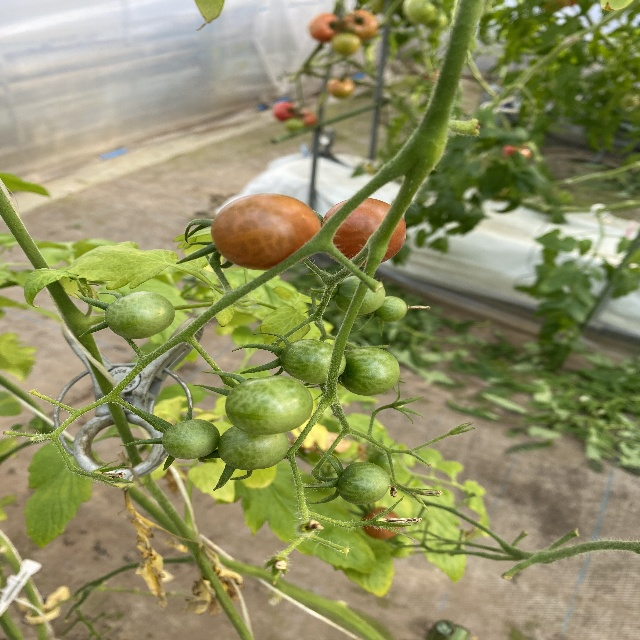l_fully_ripened: (321, 198, 407, 268)
l_green: (224, 376, 314, 435), (104, 291, 176, 340), (218, 426, 290, 470), (339, 345, 401, 396), (279, 338, 347, 384), (161, 419, 220, 459), (337, 462, 390, 505), (334, 276, 386, 314), (375, 296, 407, 322)
l_half_ripened: (211, 193, 323, 271)
